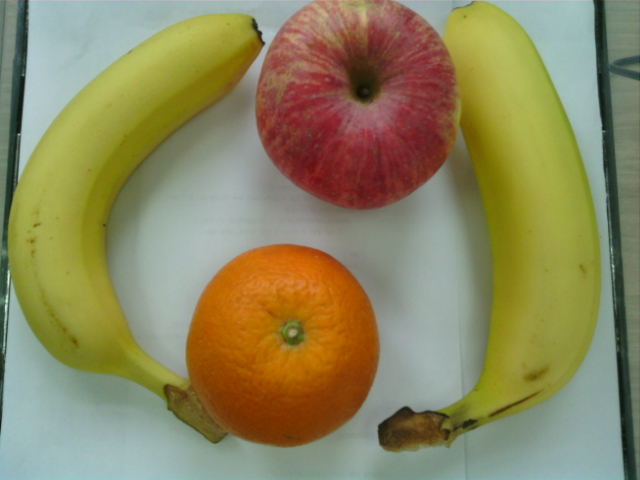normal_apple: (256, 1, 459, 211)
normal_banana: (6, 13, 264, 391), (440, 1, 604, 441)
normal_orange: (188, 246, 380, 445)
